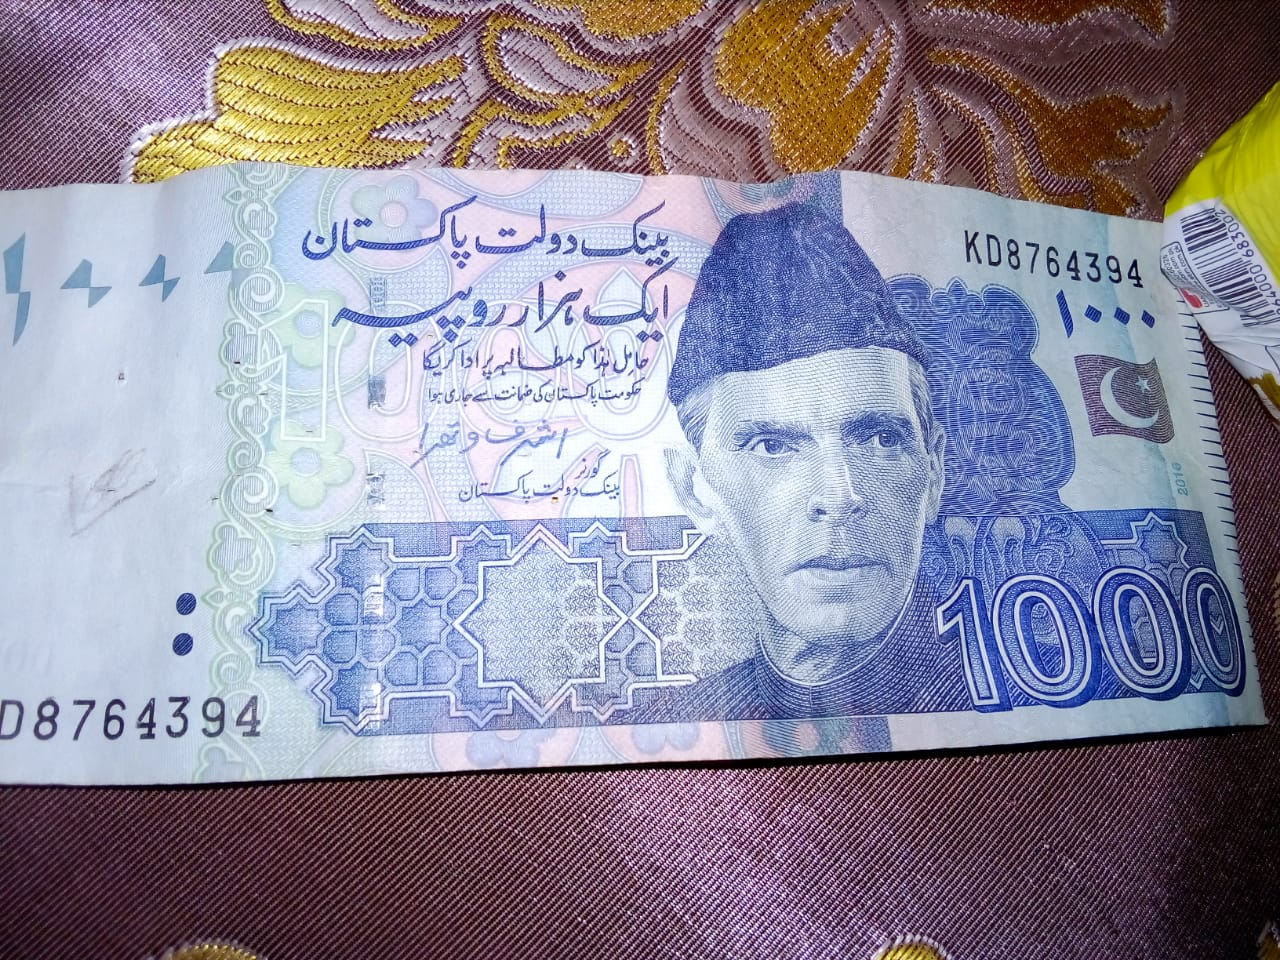1000 rupee: (5, 149, 1263, 819)
